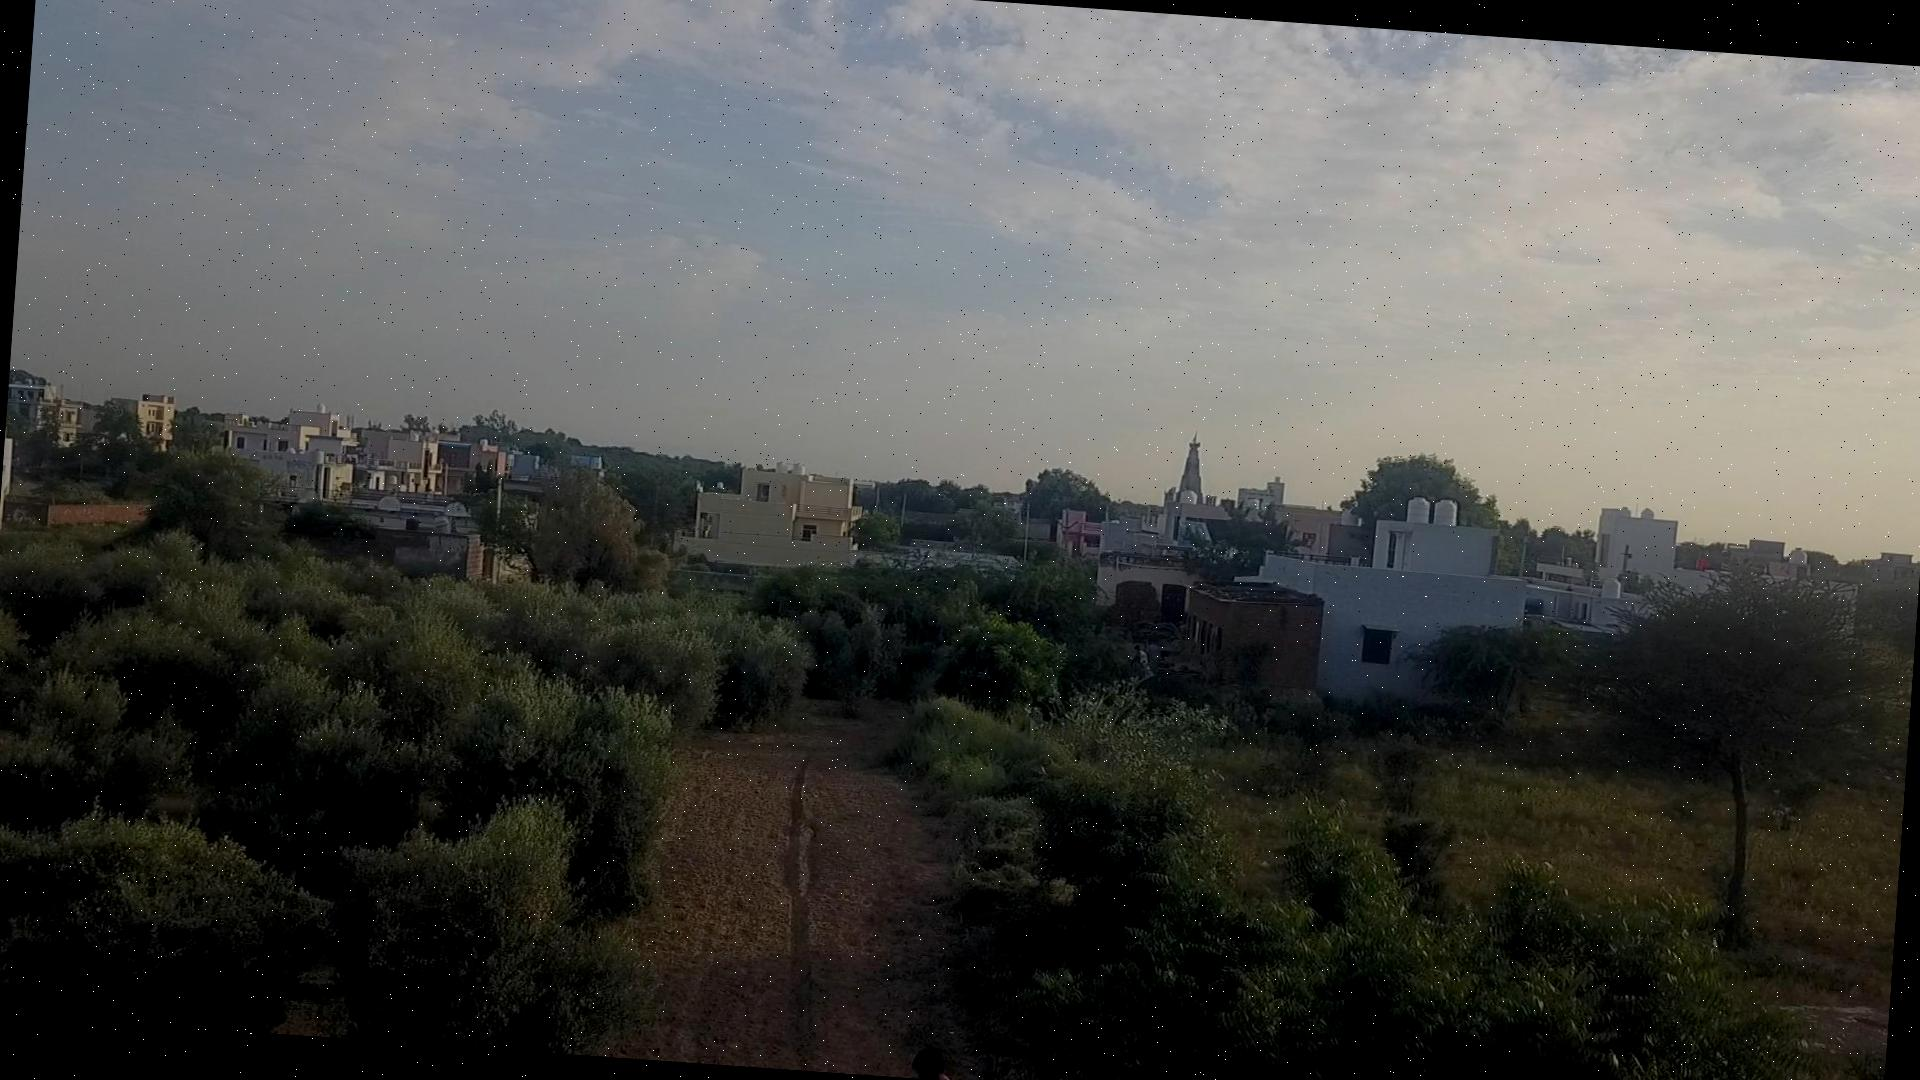canopy: (0, 533, 802, 1051), (899, 642, 1705, 1080)
road: (593, 699, 989, 1079)
